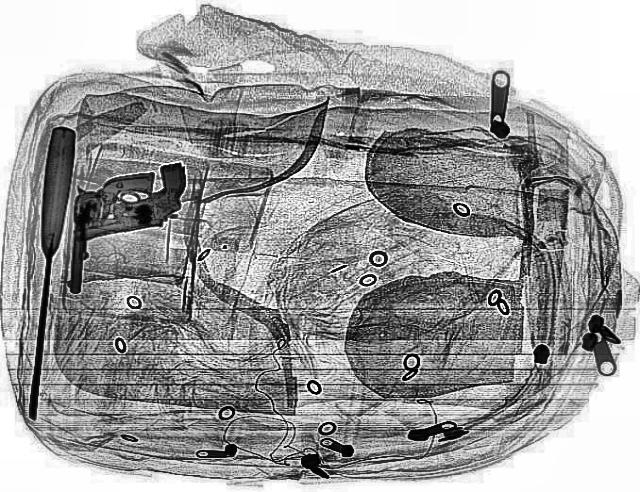Gun: (60, 160, 202, 238), (68, 168, 152, 294)
Knife: (15, 126, 77, 418)
